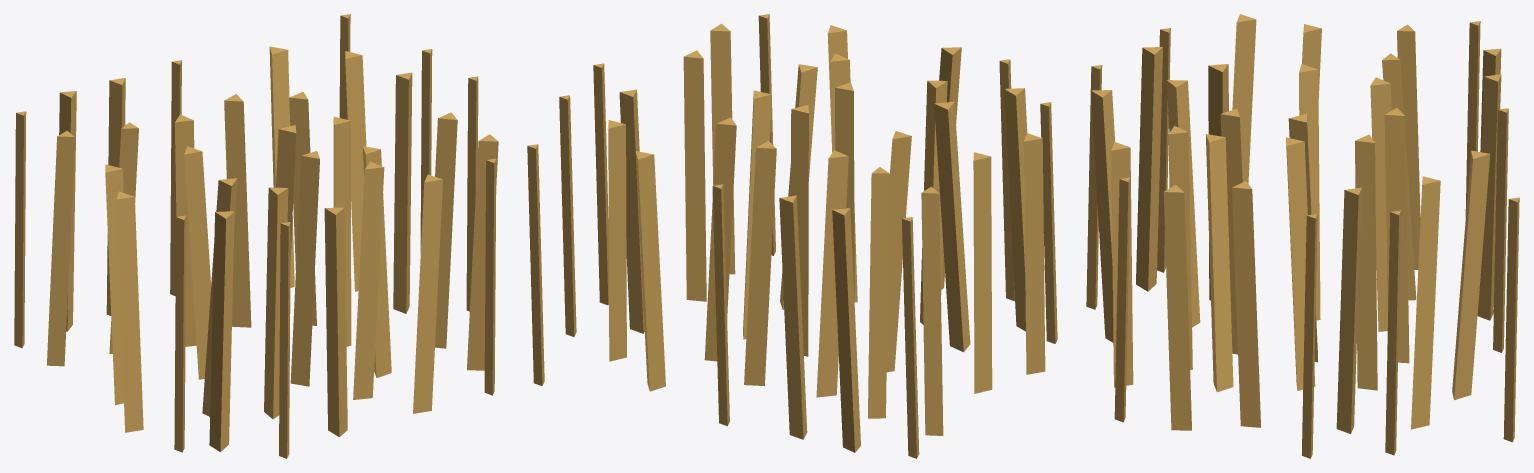
Rendered from WheatBottom.fbx.
3 views of the same model, side by side, from view 1: azimuth 30°, elevation 25°; view 2: azimuth 150°, elevation 25°; view 3: azimuth 270°, elevation 25° (orthographic). The views are drawn at different scales.
Visible parts, largest first — view 1: Wheat.001; view 2: Wheat.001; view 3: Wheat.001.
Boxes of the visible parts, <box> form: Wheat.001: <box>14,14,498,458</box>; Wheat.001: <box>527,14,1057,458</box>; Wheat.001: <box>1086,14,1519,458</box>.
Size of the model in its own units: 47.03 by 25.97 by 42.07.
